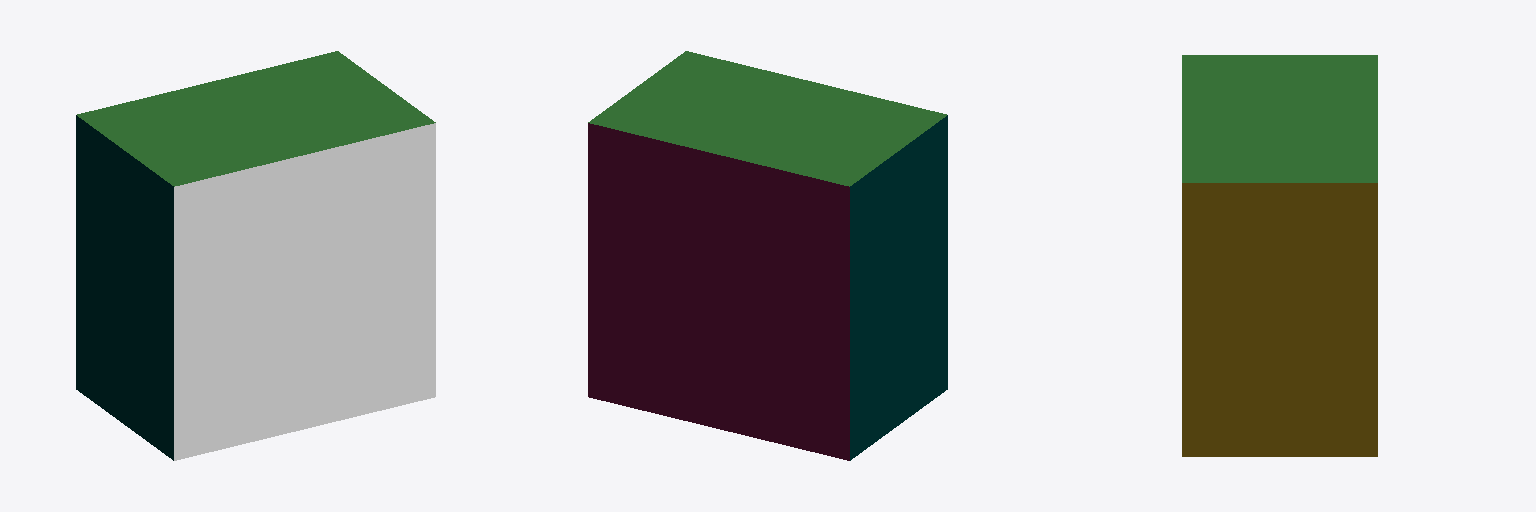
The model's file is ice.obj.
3 renders of one model, left to right at view 1: azimuth 30°, elevation 25°; view 2: azimuth 150°, elevation 25°; view 3: azimuth 270°, elevation 25°, orthographic.
Visible parts, largest first — view 1: -y_face, -x_face, +z_face; view 2: +y_face, -x_face, +z_face; view 3: +x_face, +z_face.
Part boxes in pixels (x1,y1,x2,y2): -y_face: (174, 123, 435, 460); -x_face: (76, 115, 173, 460); +z_face: (77, 51, 435, 186); +y_face: (588, 123, 849, 460); -x_face: (850, 115, 947, 460); +z_face: (588, 51, 946, 186); +x_face: (1182, 183, 1377, 456); +z_face: (1182, 55, 1377, 182).
Size of the model in its own units: 100 by 100 by 65.